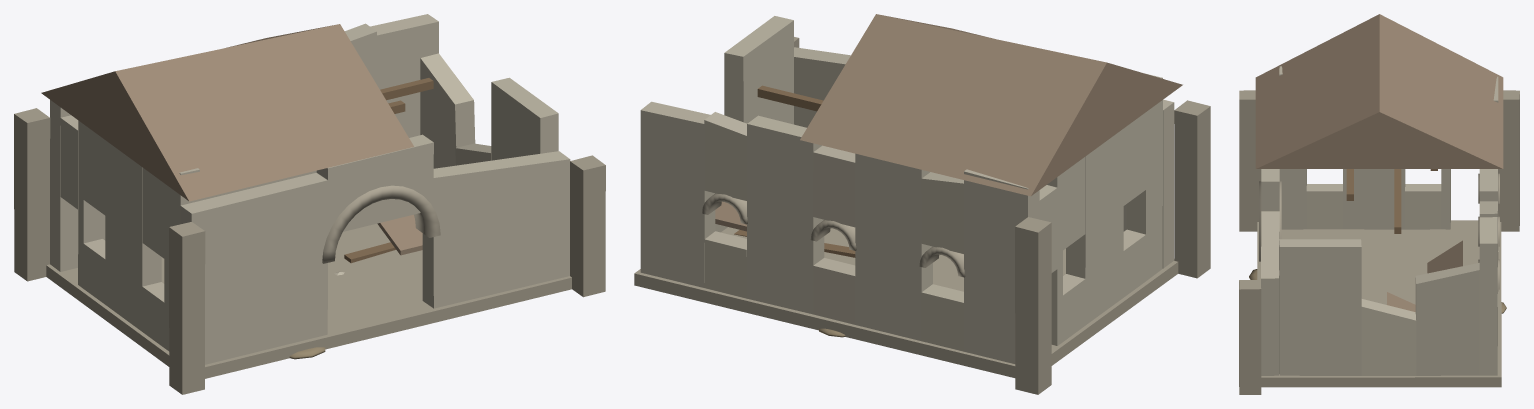
Rendered from priory_nave_shell.glb.
The picture shows the model from 3 angles, left to right: view 1: azimuth 30°, elevation 25°; view 2: azimuth 150°, elevation 25°; view 3: azimuth 270°, elevation 25°; orthographic projection. The views are drawn at different scales.
Visible parts, largest first — view 1: PNave_Stone, PNave_RoofGroup; view 2: PNave_Stone, PNave_RoofGroup; view 3: PNave_Stone, PNave_RoofGroup.
Boxes of the visible parts, x1,y1,x2,y2 form: PNave_Stone: (14, 14, 605, 394); PNave_RoofGroup: (41, 24, 433, 263); PNave_Stone: (634, 16, 1210, 394); PNave_RoofGroup: (715, 14, 1182, 257); PNave_Stone: (1239, 66, 1519, 394); PNave_RoofGroup: (1255, 14, 1503, 311).
Size of the model in its own units: 11.2 by 6.52 by 7.7.
